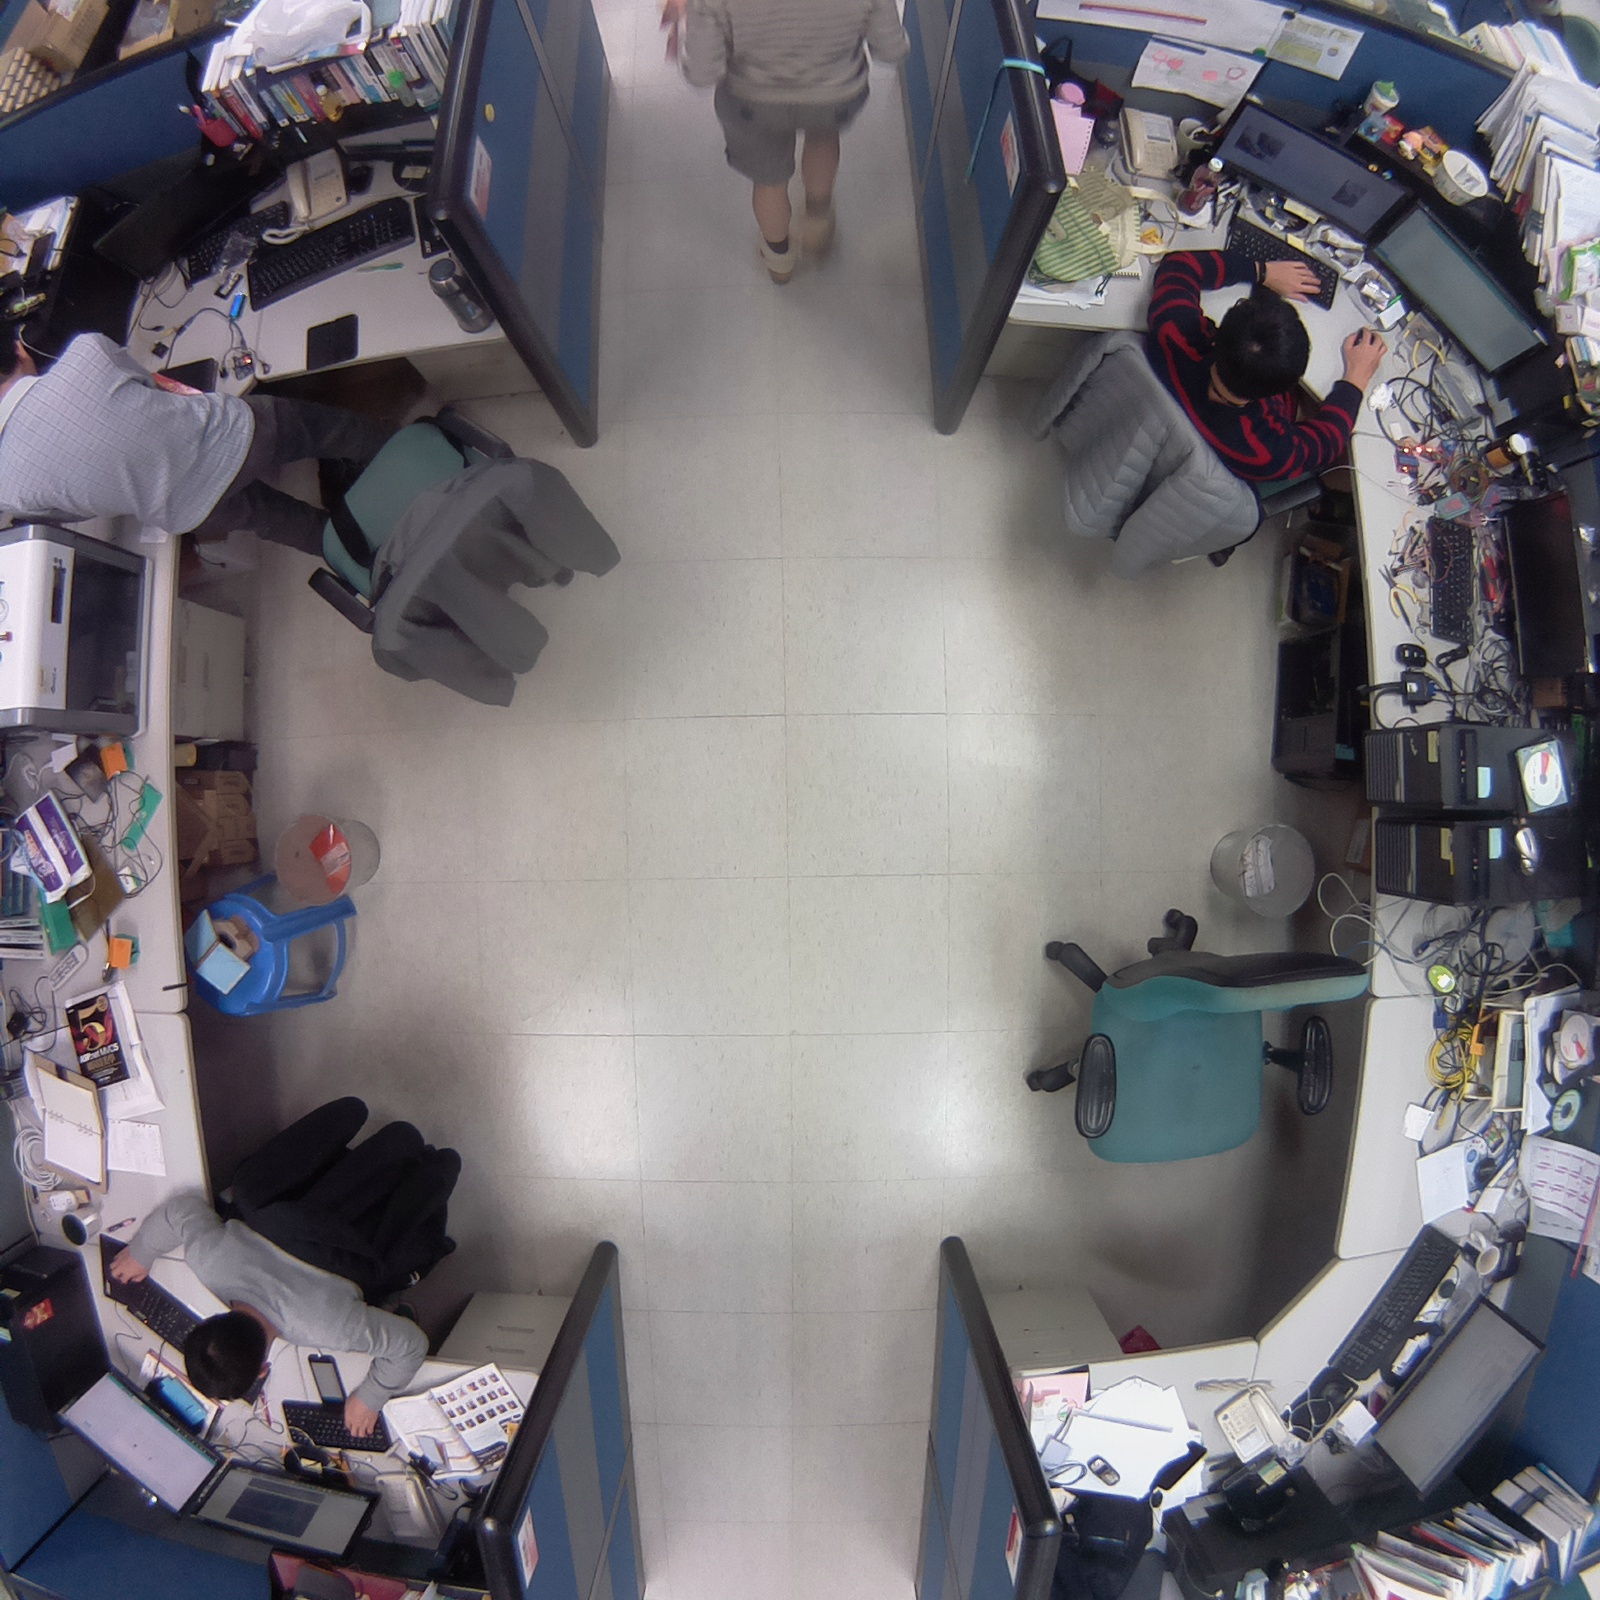chair: (1004, 870, 1386, 1191), (288, 378, 624, 727)
head: (1204, 287, 1317, 402), (180, 1302, 274, 1414)
sitting: (1012, 240, 1387, 601), (101, 1083, 476, 1440)
standing: (1, 300, 390, 562), (657, 1, 926, 307)
